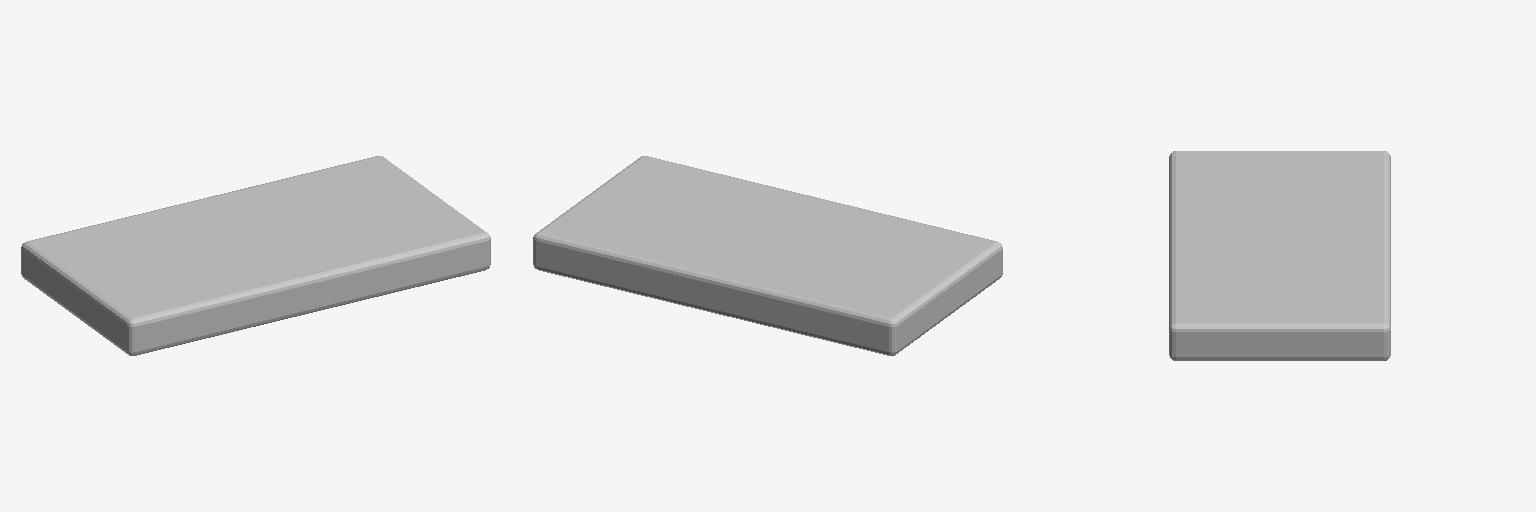
File: matress.obj
3 renders of one model, left to right at view 1: azimuth 30°, elevation 25°; view 2: azimuth 150°, elevation 25°; view 3: azimuth 270°, elevation 25°, orthographic.
Parts seen in each view (by area): view 1: Cube.002; view 2: Cube.002; view 3: Cube.002.
Boxes of the visible parts, x1,y1,x2,y2 form: Cube.002: [21, 156, 490, 355]; Cube.002: [533, 156, 1002, 355]; Cube.002: [1169, 151, 1390, 360].
Bounding box in the file's own units: 4.88 × 0.4772 × 2.58.